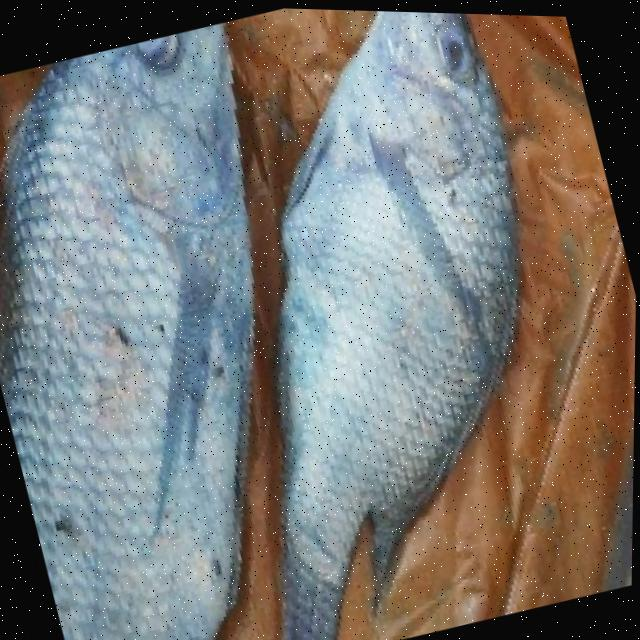Non-Fresh: (234, 6, 626, 587), (0, 16, 336, 543)
